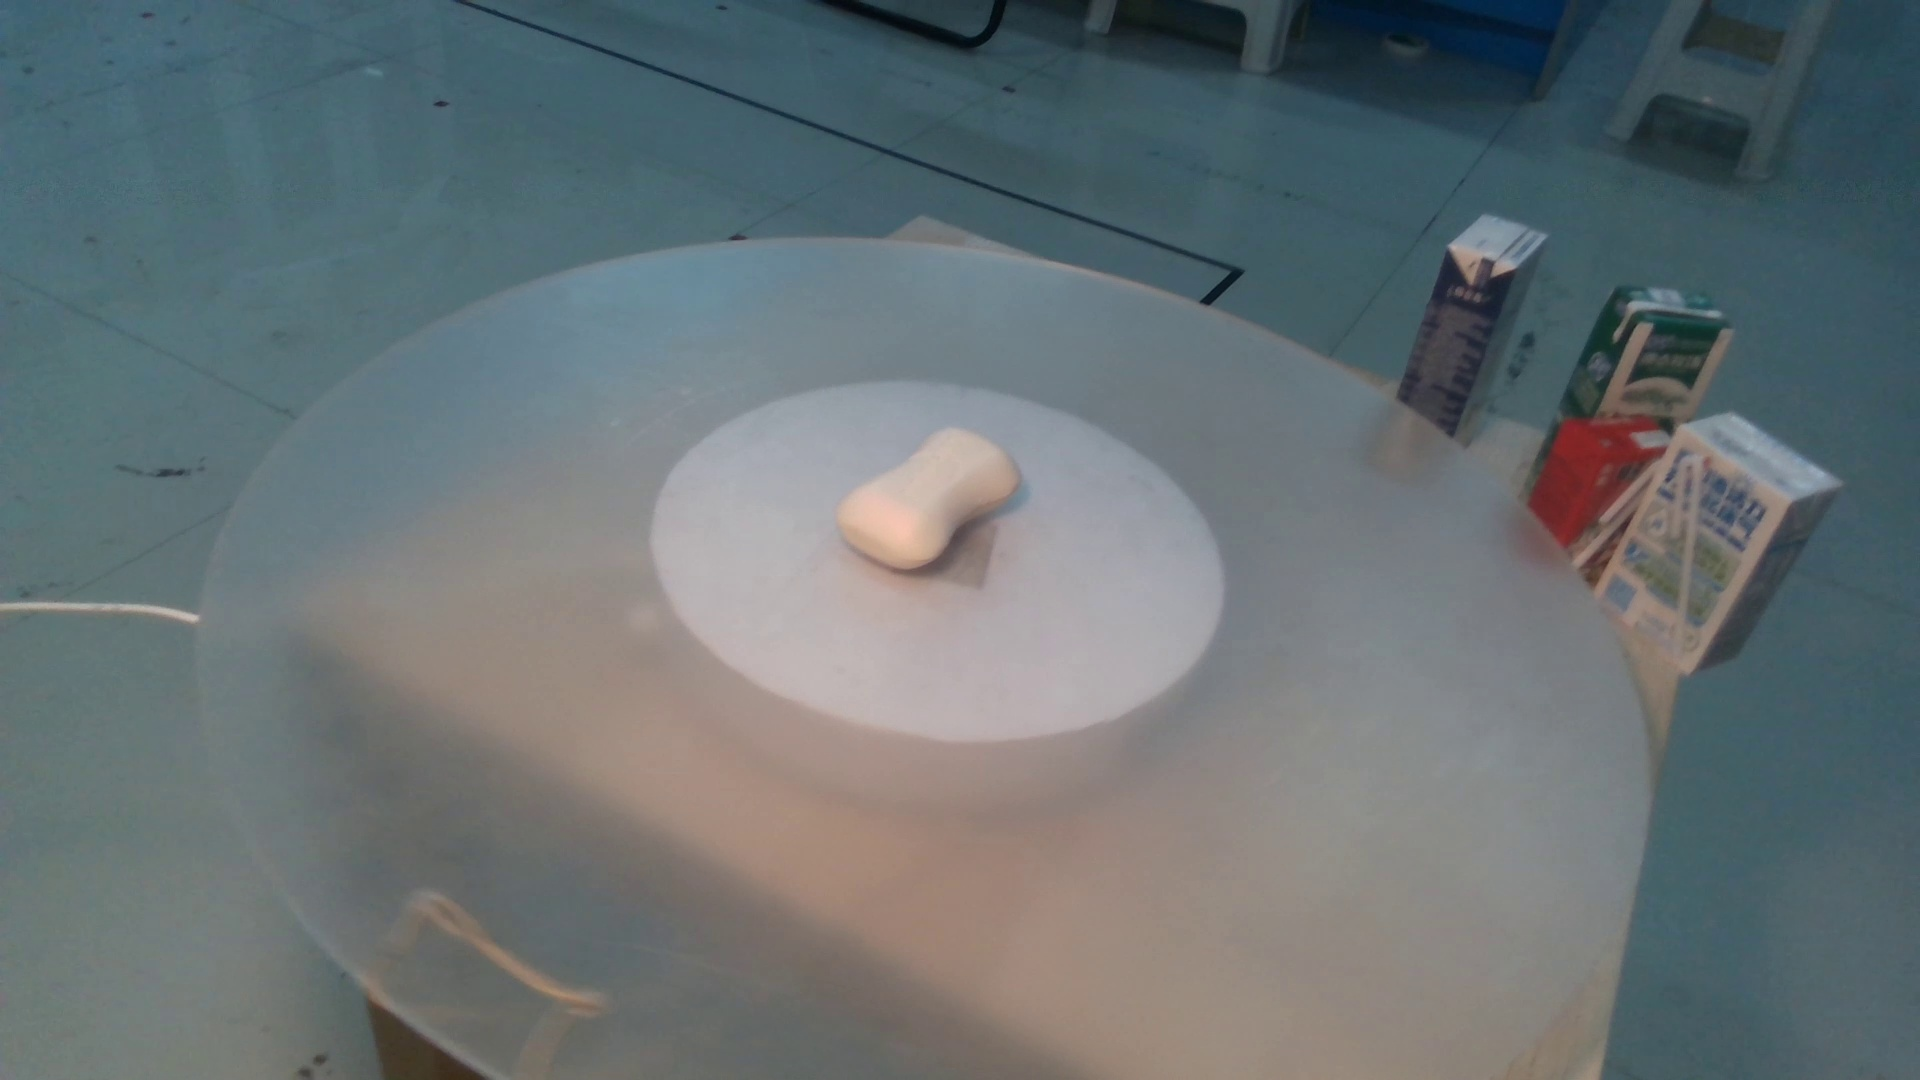CA003_1: (815, 398, 1058, 609)
